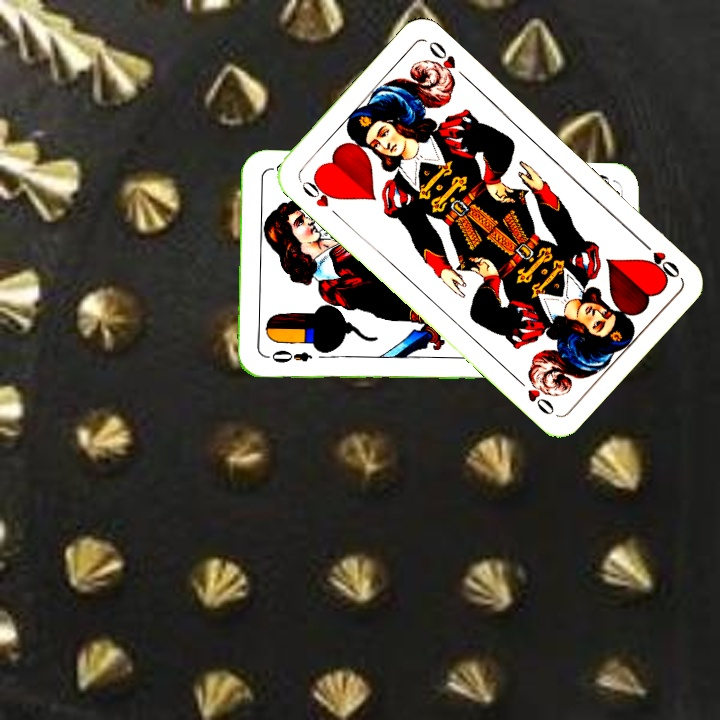EO: (262, 346, 315, 365)
HO: (295, 173, 343, 221), (635, 235, 683, 281)
